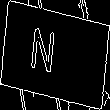N_S: (40, 27, 70, 83)
